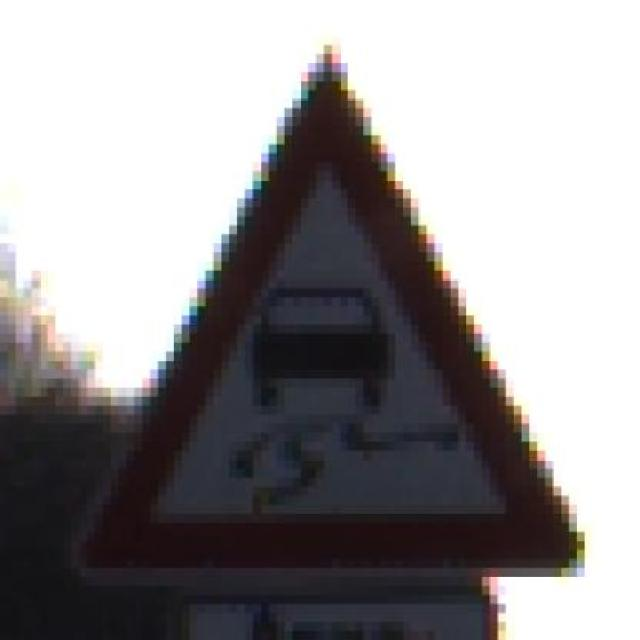Slippery Road Ahead: (53, 33, 582, 584)
